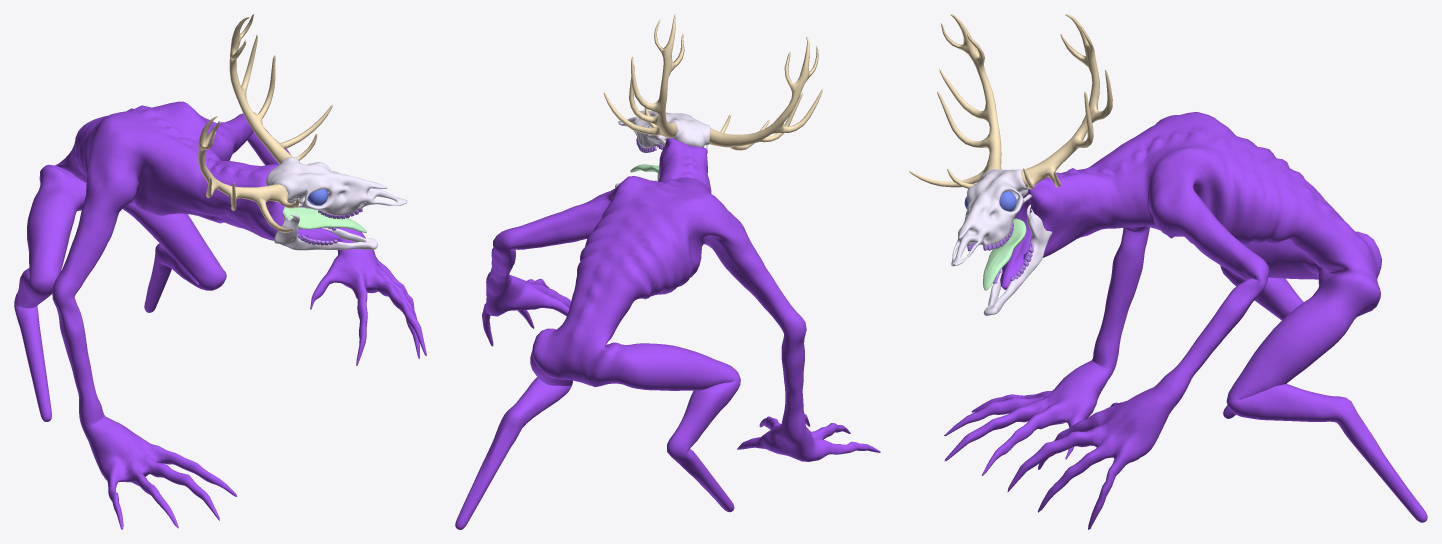
Rendered from Vendigo.fbx.
The picture shows the model from 3 angles, left to right: view 1: azimuth 30°, elevation 25°; view 2: azimuth 150°, elevation 25°; view 3: azimuth 270°, elevation 25°; orthographic projection. The views are drawn at different scales.
Visible parts, largest first — view 1: Merged_PM3D_Sphere3D1_4; view 2: Merged_PM3D_Sphere3D1_4; view 3: Merged_PM3D_Sphere3D1_4.
Boxes of the visible parts, x1,y1,x2,y2 form: Merged_PM3D_Sphere3D1_4: (14,14,426,529); Merged_PM3D_Sphere3D1_4: (455,14,880,529); Merged_PM3D_Sphere3D1_4: (909,14,1427,529).
Size of the model in its own units: 1453 by 1750 by 1669.
